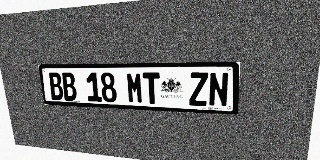1: (85, 72, 102, 102)
8: (100, 72, 117, 102)
B: (61, 72, 78, 101), (48, 72, 64, 100)
M: (126, 72, 144, 104)
N: (208, 72, 229, 107)
T: (143, 72, 161, 104)
Z: (189, 72, 208, 106)
